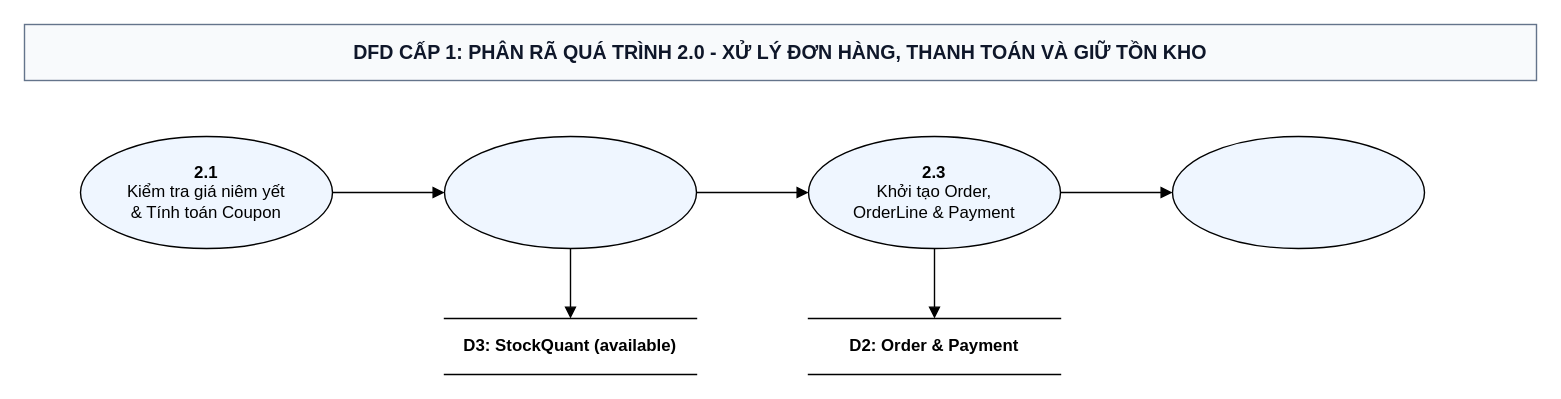
Image size: 1561x399. Some labels were removed from this diagram. Each missing label, with the centre of its shape:
"2.2 Khóa tồn kho khả dụng & Tăng reserved" goes at (569,191).
"2.4 Tạo mã VietQR hoặc Xác nhận phiếu COD" goes at (1297,191).
